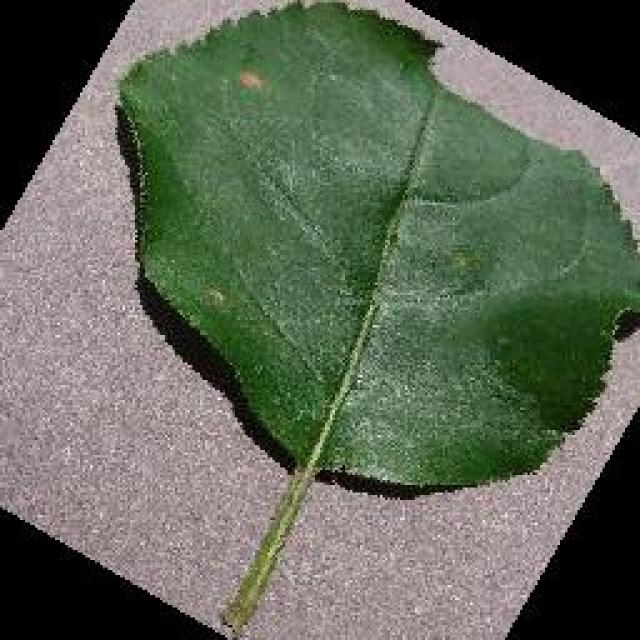Black_rot: (112, 0, 638, 638)
